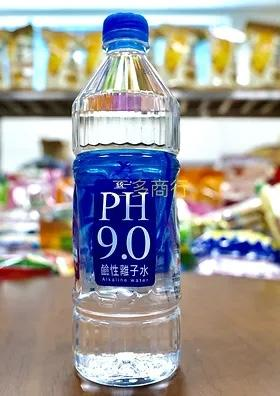plastic: (70, 14, 182, 386)
